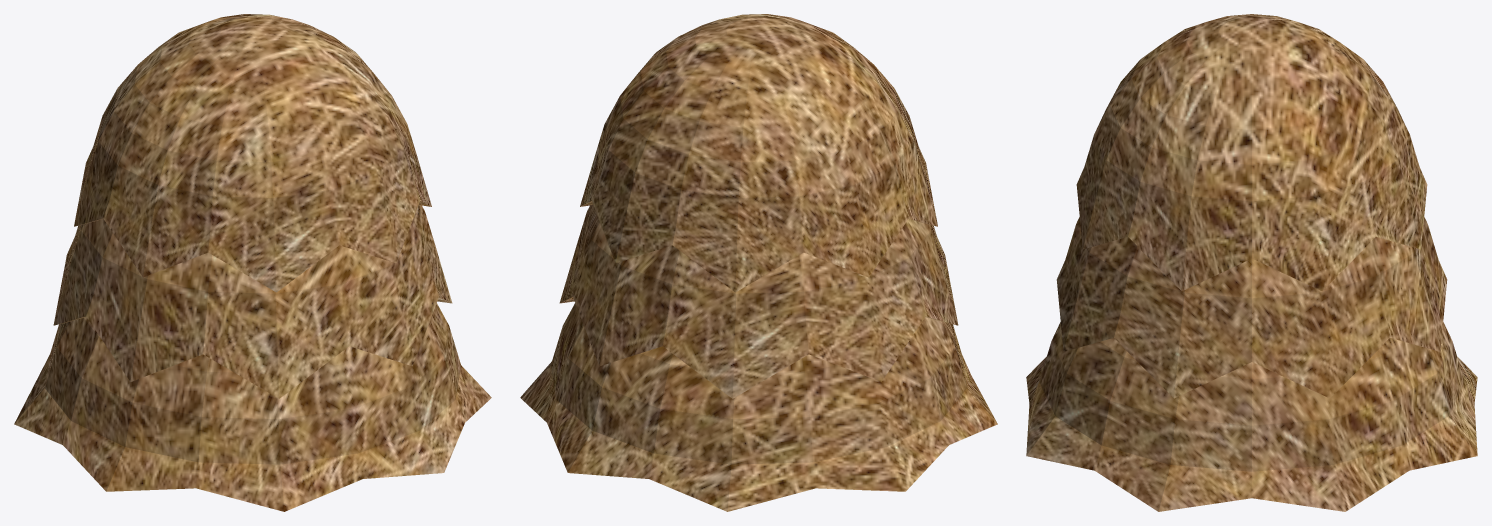
Rendered from Sega_stack.fbx.
The picture shows the model from 3 angles, left to right: view 1: azimuth 30°, elevation 25°; view 2: azimuth 150°, elevation 25°; view 3: azimuth 270°, elevation 25°; orthographic projection.
Parts seen in each view (by area): view 1: Sega stack.002; view 2: Sega stack.002; view 3: Sega stack.002.
Boxes of the visible parts, x1,y1,x2,y2 form: Sega stack.002: (14,14,491,511); Sega stack.002: (520,14,997,511); Sega stack.002: (1026,14,1477,511).
Bounding box in the file's own units: 208 × 197 × 208.
